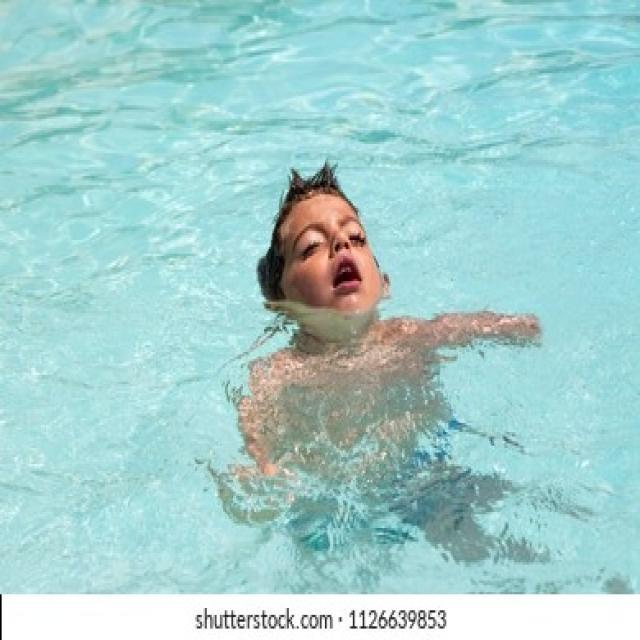drowning: (149, 135, 597, 558)
